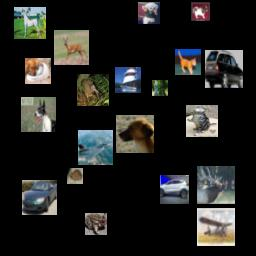airplane: (197, 208, 235, 246), (78, 130, 113, 165)
automobile: (205, 50, 243, 88), (22, 180, 57, 215), (160, 175, 189, 204)
bird: (77, 74, 109, 106), (152, 80, 168, 96)
cat: (186, 105, 218, 137), (175, 49, 201, 75)
deer: (197, 166, 235, 204), (54, 30, 89, 65)
dog: (116, 115, 154, 153), (21, 97, 56, 132), (25, 58, 51, 84), (138, 2, 160, 24), (191, 2, 210, 21)
frog: (85, 213, 107, 235), (67, 168, 83, 184)
ship: (115, 67, 141, 93)
